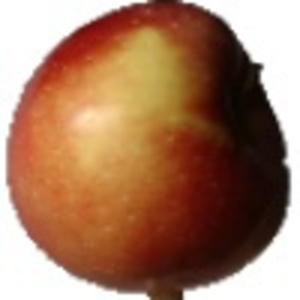maçã braeburn: (5, 1, 292, 291)
